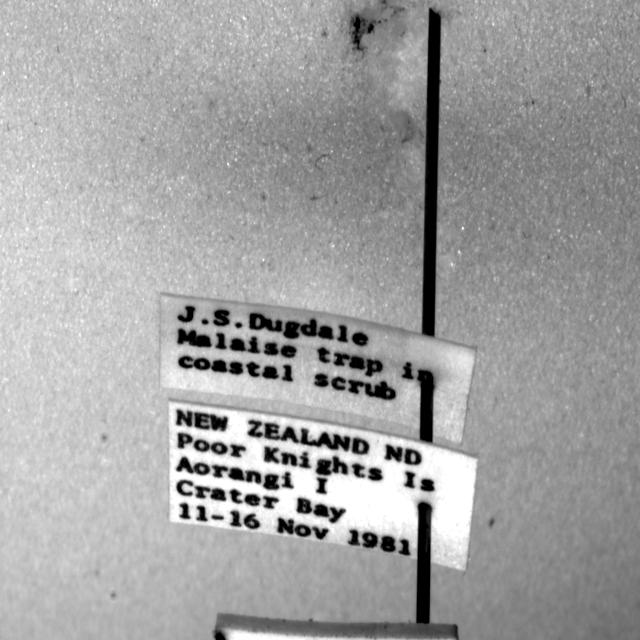typed_label: (169, 401, 478, 570), (160, 294, 475, 444)
